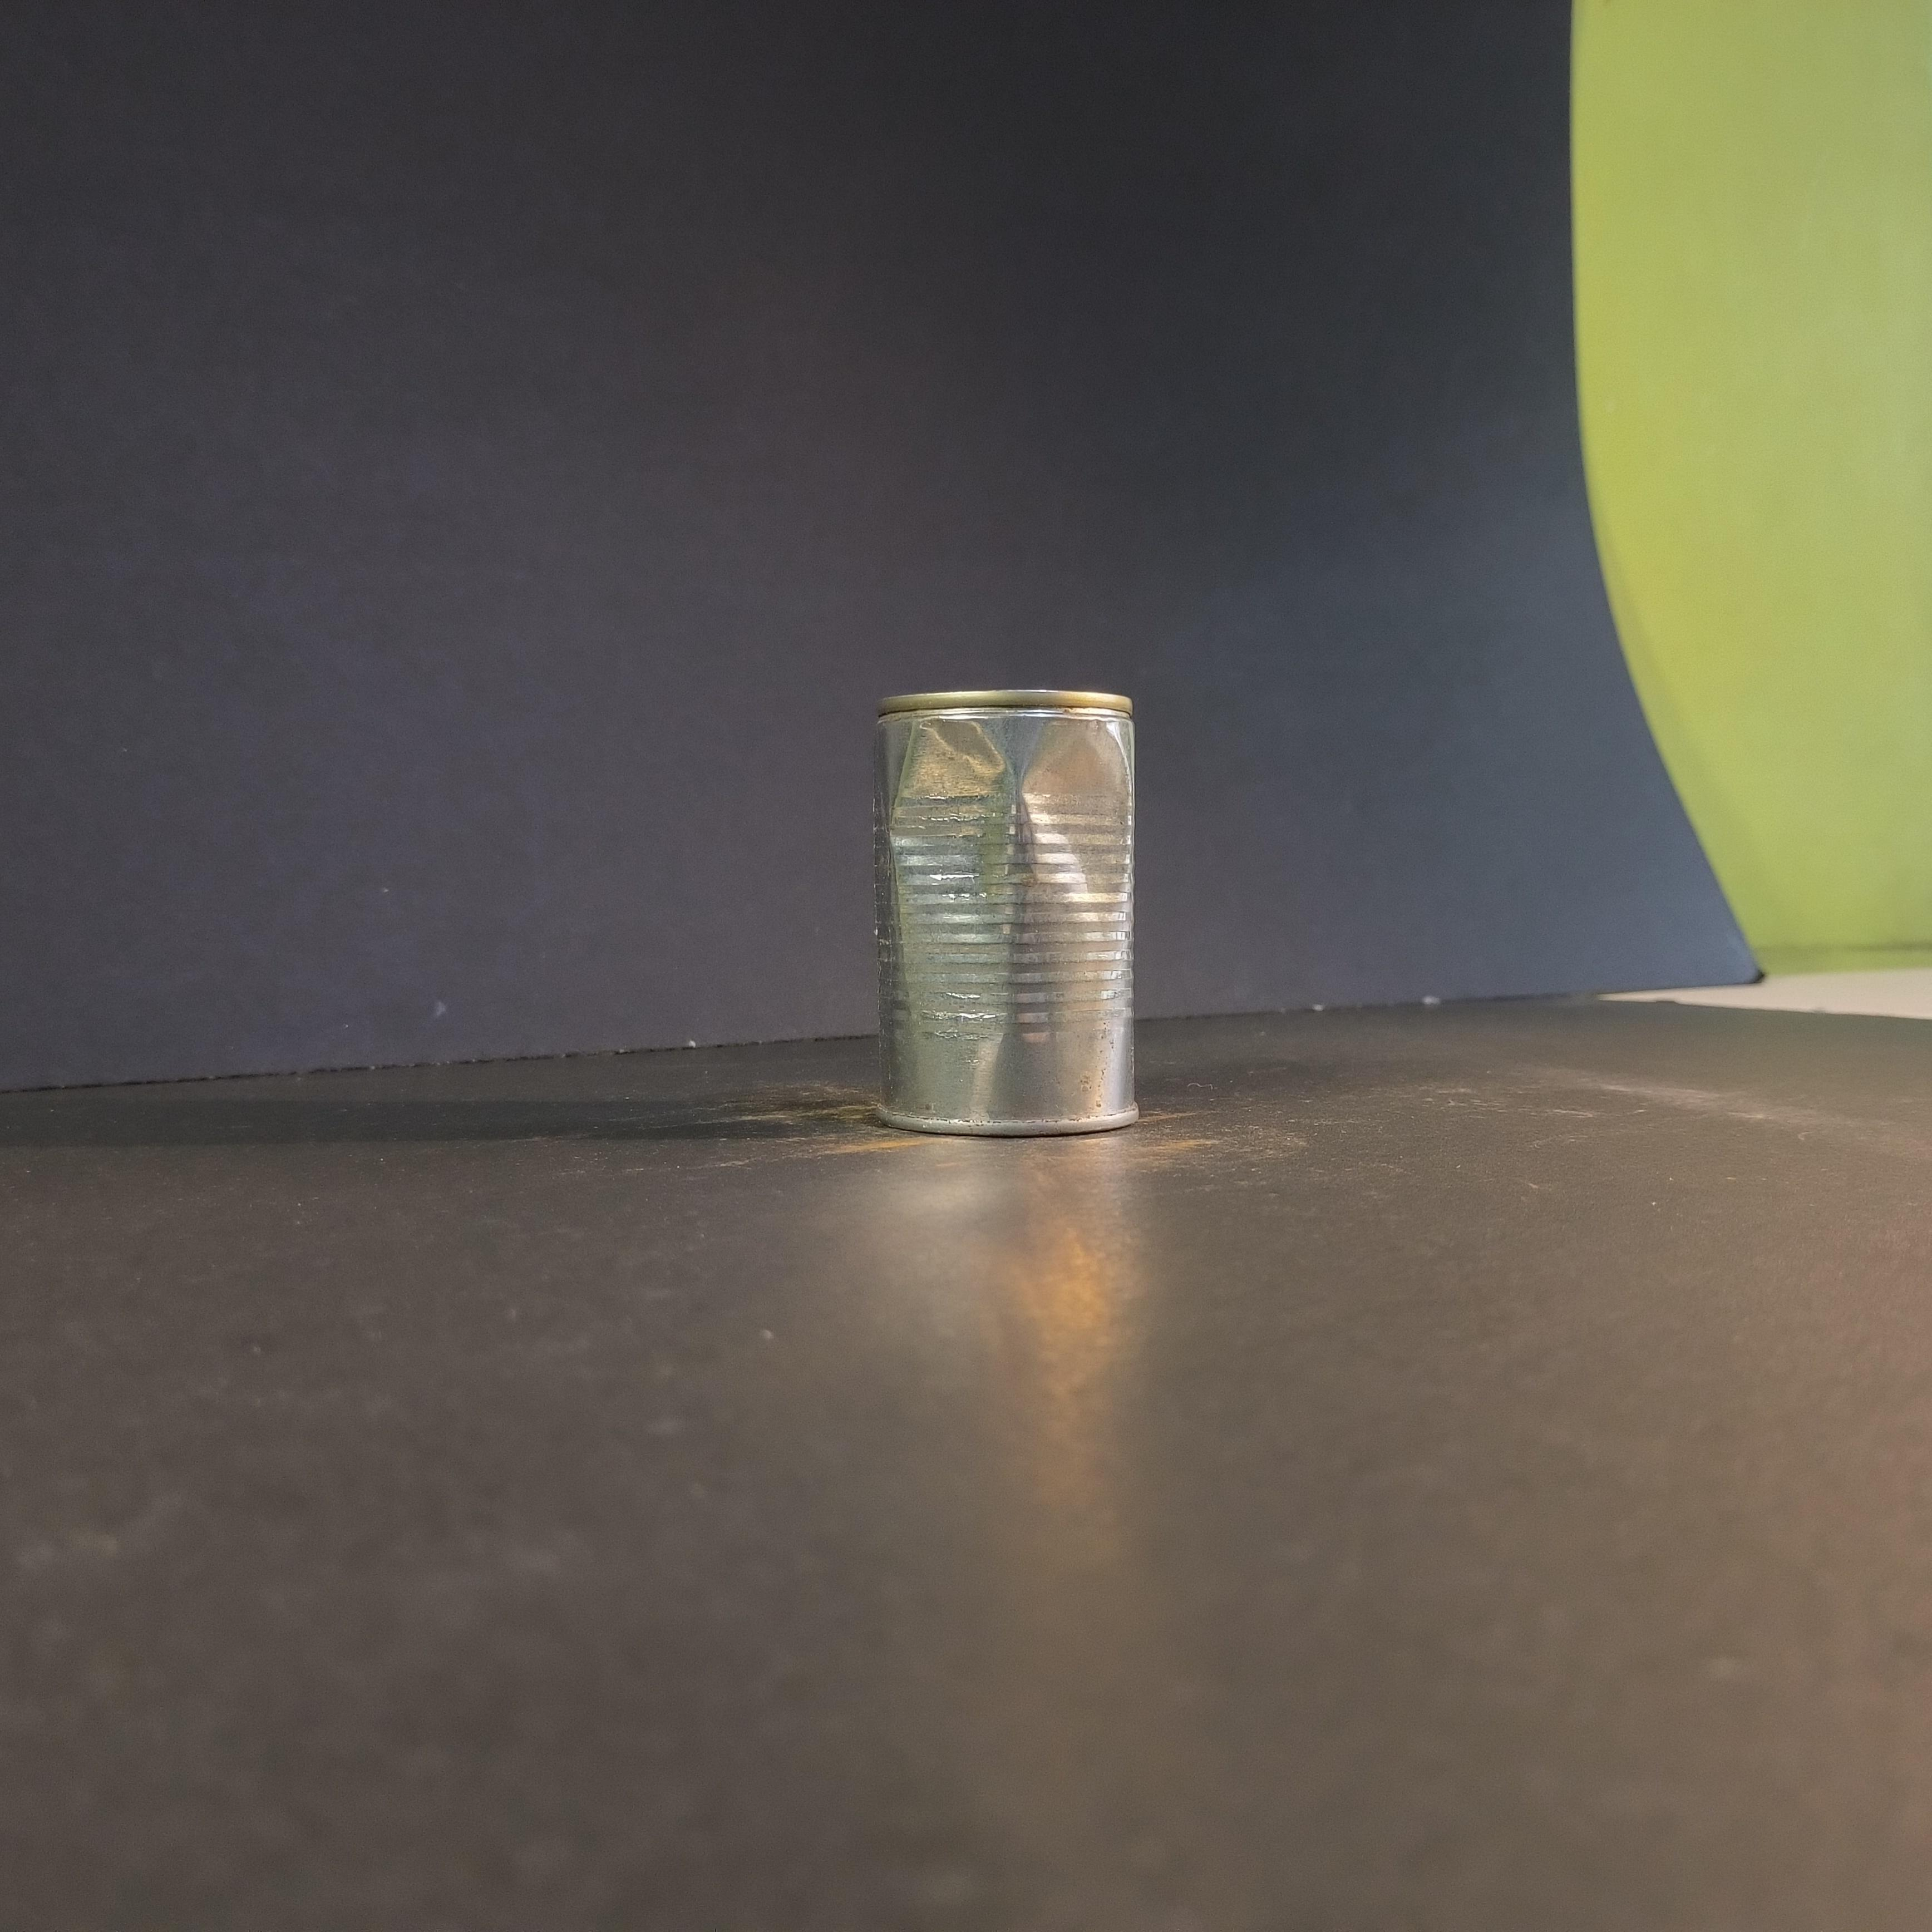Dented: (826, 655, 1177, 1168)
